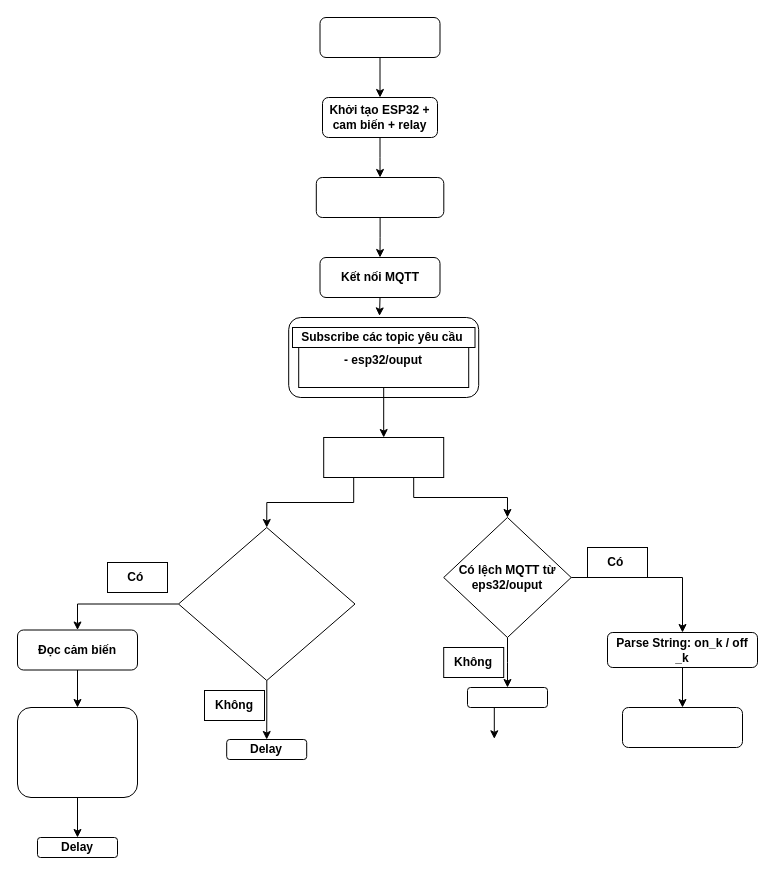
Image size: 775x875. Some labels were removed from this diagram. The centre of each missing label's shape, as x and y in pixels:
"Bật tắt relay kênh k" belongs at point (682, 727).
"Bắt đầu" belongs at point (379, 37).
"Bỏ qua" belongs at point (507, 697).
"Kết nối 4G ( A7680C)" belongs at point (379, 197).
"Publish từng topic - esp32/temperature - esp32/humidity - esp32/lux -esp32/soil" belongs at point (77, 752).
"Vòng lặp chính" belongs at point (383, 457).
"Đến thời điểm gửi dữ liệu cảm biên" belongs at point (266, 603).
